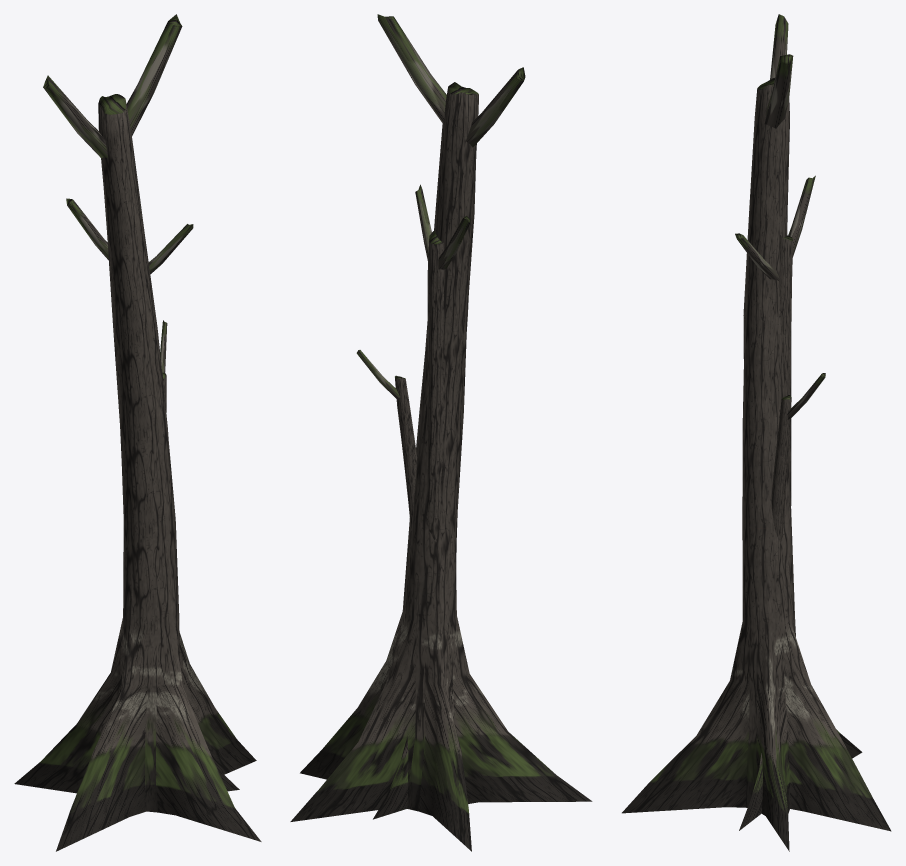
File: trunk_selva_kit_hp_LOD2.glb
The picture shows the model from 3 angles, left to right: view 1: azimuth 30°, elevation 25°; view 2: azimuth 150°, elevation 25°; view 3: azimuth 270°, elevation 25°; orthographic projection. The views are drawn at different scales.
Parts seen in each view (by area): view 1: Trunk_Thick_LOD2, Trunk_Medium_LOD2; view 2: Trunk_Thick_LOD2, Trunk_Medium_LOD2, Trunk_Thin_LOD2; view 3: Trunk_Thick_LOD2, Trunk_Medium_LOD2, Trunk_Thin_LOD2.
Boxes of the visible parts, x1,y1,x2,y2 form: Trunk_Thick_LOD2: (14,14,261,851); Trunk_Medium_LOD2: (66,198,239,791); Trunk_Thick_LOD2: (290,14,592,851); Trunk_Medium_LOD2: (373,184,470,819); Trunk_Thin_LOD2: (356,350,416,530); Trunk_Thick_LOD2: (622,14,891,851); Trunk_Medium_LOD2: (735,175,815,830); Trunk_Thin_LOD2: (771,373,825,542).
Size of the model in its own units: 4.97 by 14.86 by 4.8.
1 material, 1 textured.
